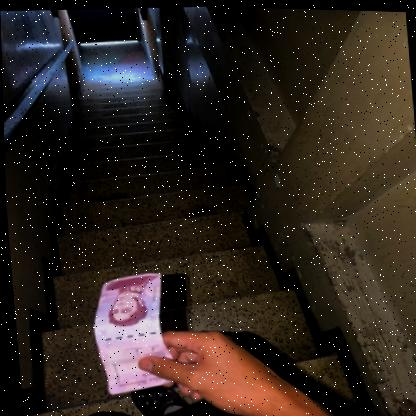vef_front: (87, 268, 173, 396)
